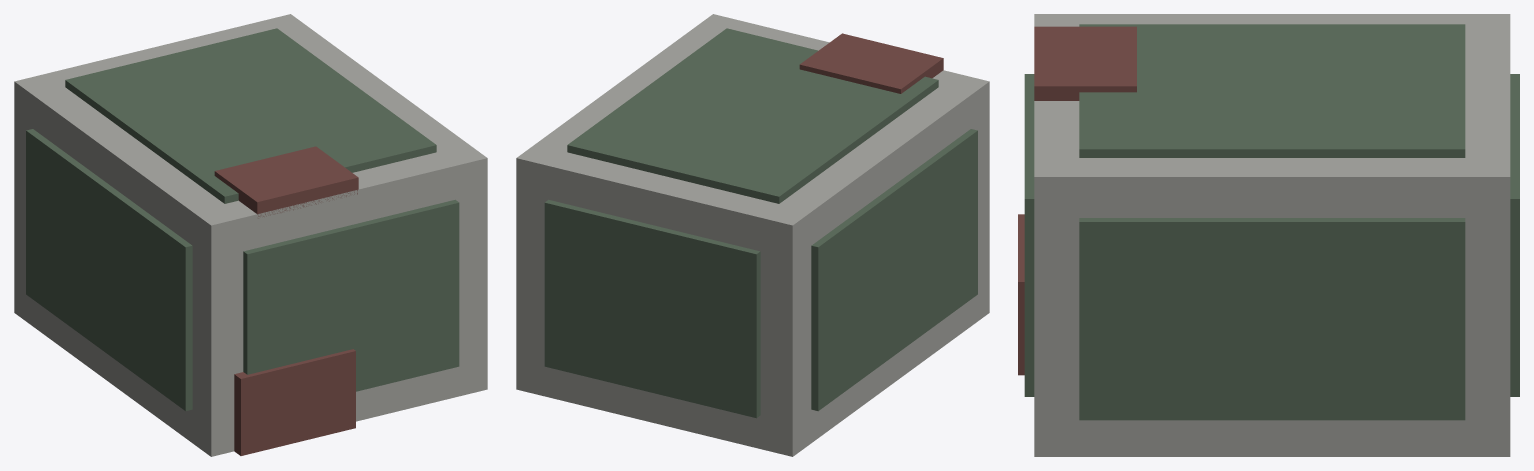
Rendered from oc_small_crate.obj.
3 renders of one model, left to right at view 1: azimuth 30°, elevation 25°; view 2: azimuth 150°, elevation 25°; view 3: azimuth 270°, elevation 25°, orthographic. The views are drawn at different scales.
Parts seen in each view (by area): view 1: oc_small_crate_0, oc_small_crate_1, oc_small_crate_2, oc_small_crate_4, oc_small_crate_7, oc_small_crate_6; view 2: oc_small_crate_0, oc_small_crate_3, oc_small_crate_1, oc_small_crate_4, oc_small_crate_6; view 3: oc_small_crate_0, oc_small_crate_5, oc_small_crate_1, oc_small_crate_6, oc_small_crate_2, oc_small_crate_3, oc_small_crate_7.
Part boxes in pixels (x1=…): oc_small_crate_0: x1=14, y1=14, x2=487, y2=456; oc_small_crate_1: x1=65, y1=28, x2=436, y2=203; oc_small_crate_2: x1=243, y1=199, x2=459, y2=391; oc_small_crate_4: x1=26, y1=129, x2=192, y2=411; oc_small_crate_7: x1=234, y1=349, x2=355, y2=455; oc_small_crate_6: x1=214, y1=146, x2=358, y2=218; oc_small_crate_0: x1=516, y1=14, x2=989, y2=456; oc_small_crate_3: x1=544, y1=199, x2=760, y2=418; oc_small_crate_1: x1=567, y1=28, x2=938, y2=203; oc_small_crate_4: x1=811, y1=129, x2=977, y2=411; oc_small_crate_6: x1=799, y1=33, x2=943, y2=93; oc_small_crate_0: x1=1034, y1=14, x2=1510, y2=456; oc_small_crate_5: x1=1079, y1=218, x2=1465, y2=420; oc_small_crate_1: x1=1079, y1=24, x2=1465, y2=157; oc_small_crate_6: x1=1034, y1=26, x2=1136, y2=100; oc_small_crate_2: x1=1024, y1=74, x2=1034, y2=396; oc_small_crate_3: x1=1510, y1=74, x2=1519, y2=396; oc_small_crate_7: x1=1018, y1=214, x2=1024, y2=375.
Size of the model in its own units: 0.63 by 0.505 by 0.78.
